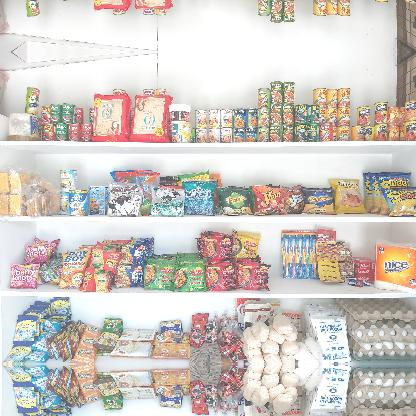Lady-s-Choice: (8, 112, 40, 140)
